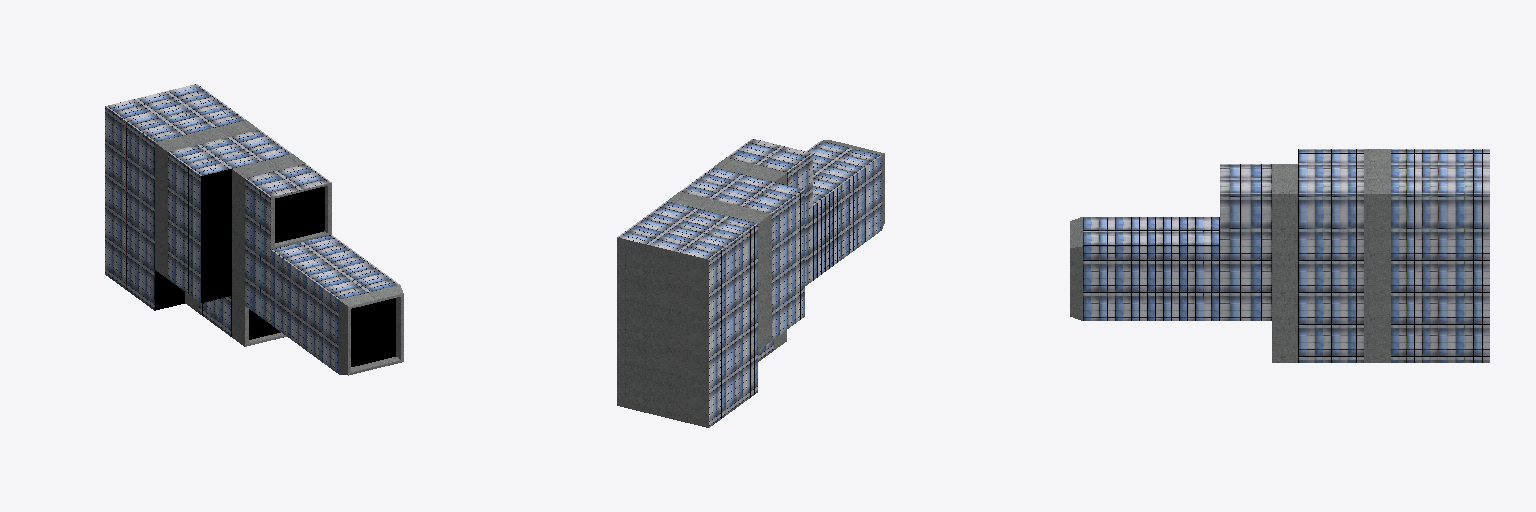
3 renders of one model, left to right at view 1: azimuth 30°, elevation 25°; view 2: azimuth 150°, elevation 25°; view 3: azimuth 270°, elevation 25°, orthographic.
Parts seen in each view (by area): view 1: Object63; view 2: Object63; view 3: Object63.
Part boxes in pixels (x1,y1,x2,y2): Object63: (105,84,403,375); Object63: (617,139,884,427); Object63: (1070,149,1489,362).
Size of the model in its own units: 48 by 84.23 by 190.
3 materials, 2 textured.